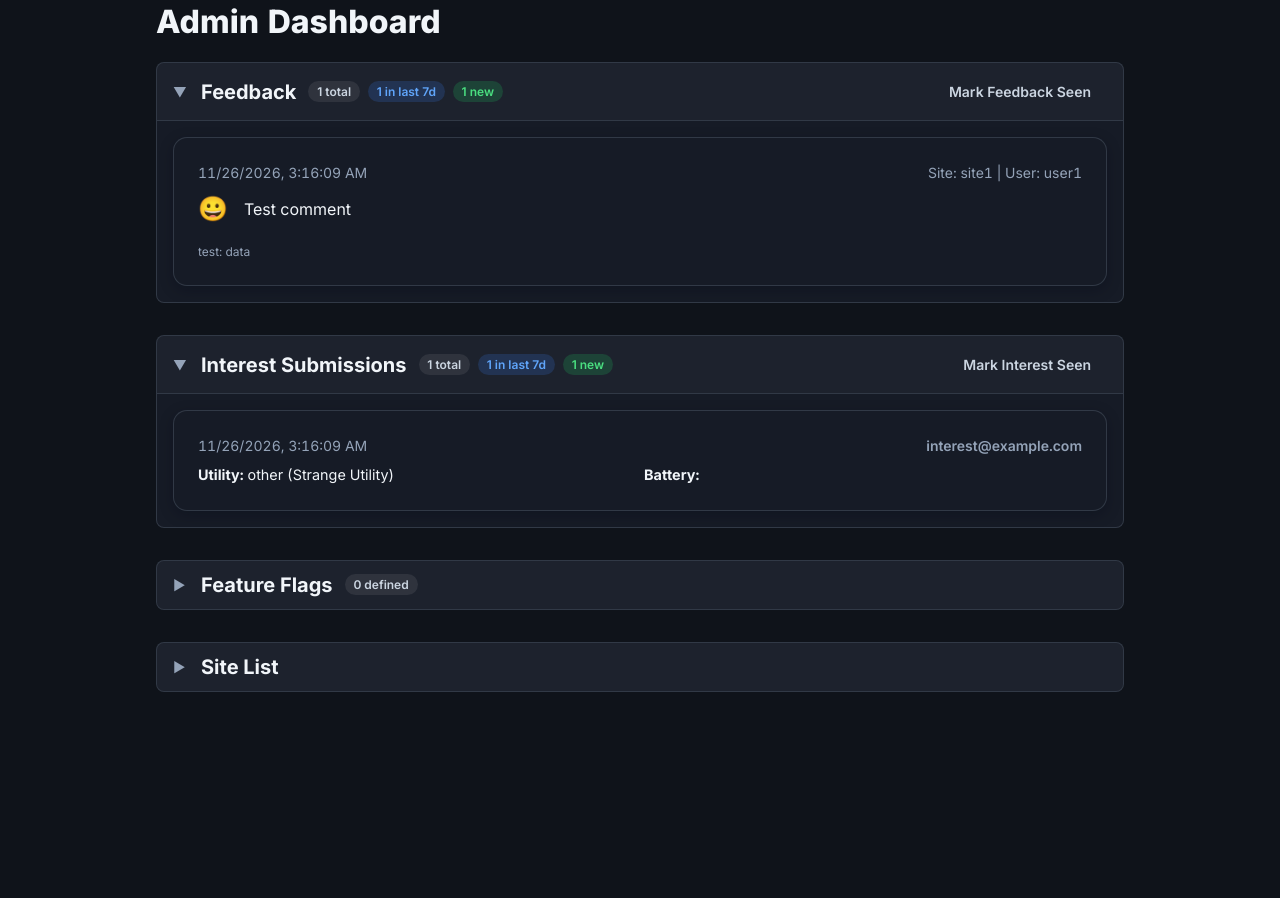
AdminPage › lazy-loads sites only when Site List section is opened and renders feedback and interest
The width and height of the screenshot is (1280, 898).
Expected: the text "Test comment" is shown, x1=244 y1=197 x2=351 y2=221
Expected: the text "interest@example.com" is shown, x1=926 y1=435 x2=1082 y2=456
Open Site List section
Click the heading "Site List" at (240, 667), box x1=201 y1=655 x2=279 y2=679
(page scrolled)
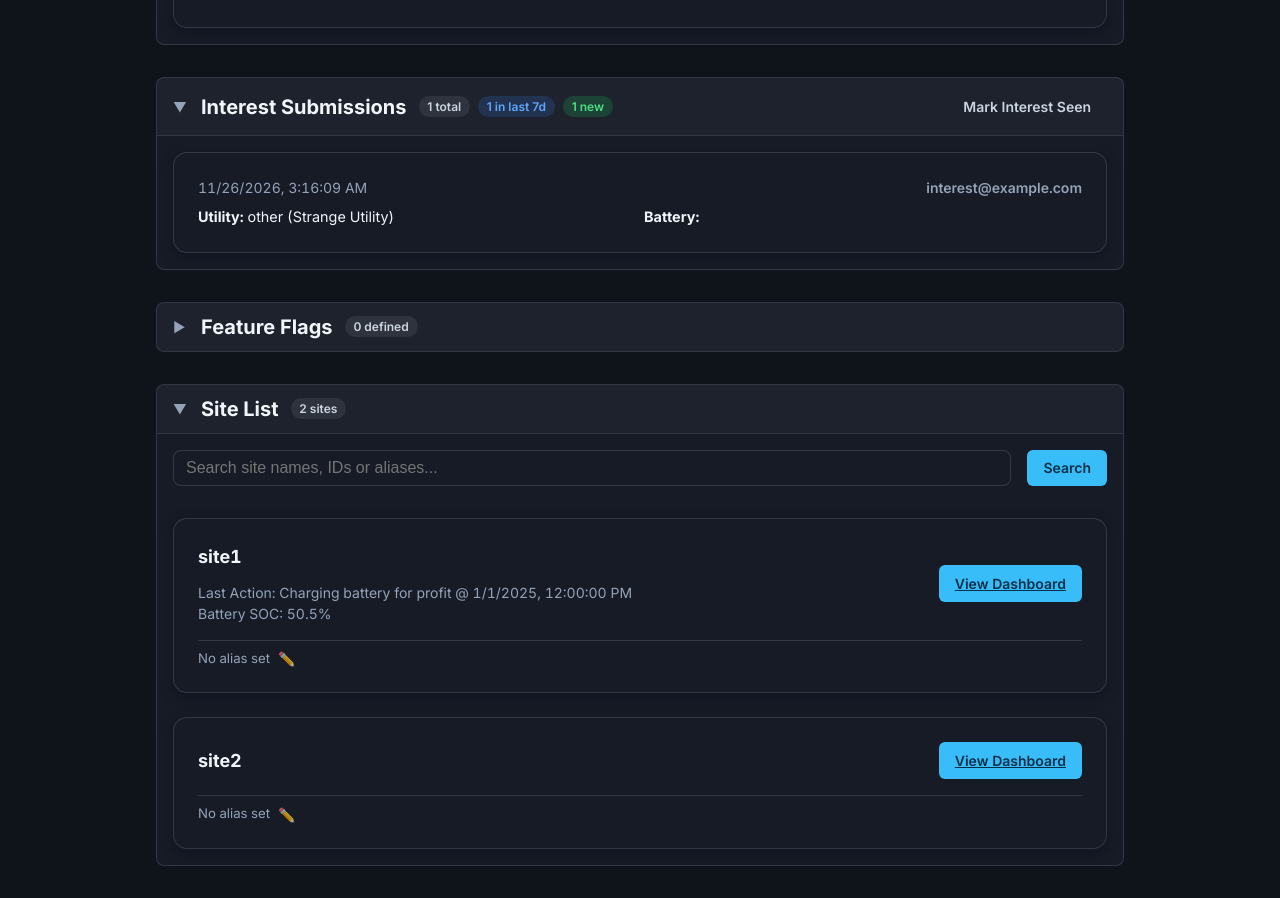
Result: the heading "site1" is shown at x1=198 y1=546 x2=242 y2=567
Result: the heading "site2" is shown at x1=198 y1=747 x2=242 y2=774
Result: the text "Charging battery for profit" is shown at x1=279 y1=584 x2=452 y2=601
